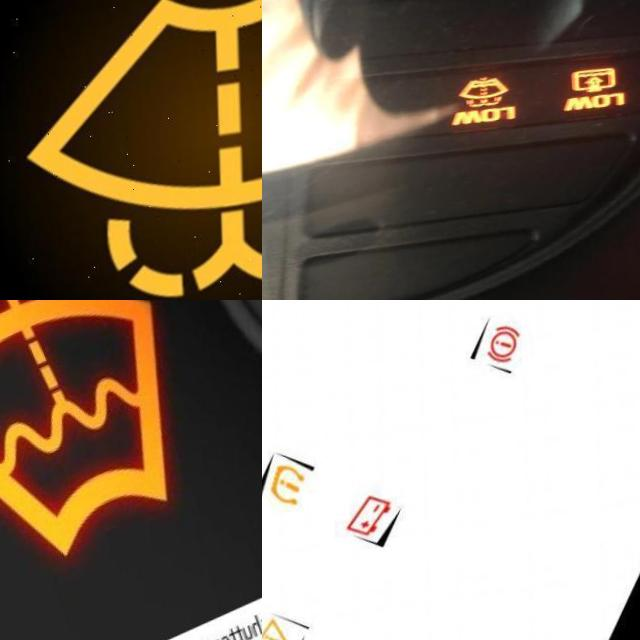Washer Fluid: (0, 300, 167, 582), (455, 80, 507, 119)
